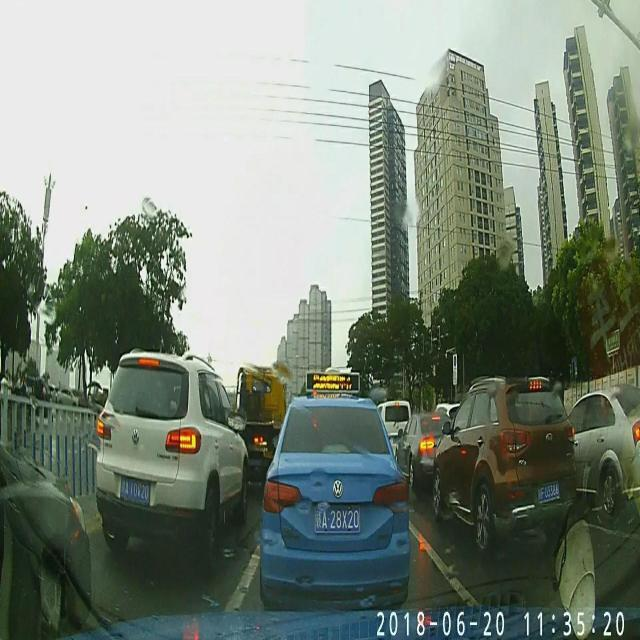car: (262, 371, 413, 614), (90, 350, 248, 556), (430, 372, 580, 544), (566, 386, 639, 516), (395, 412, 458, 482)
